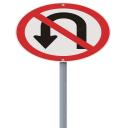NoVirarU: (15, 2, 111, 62)
